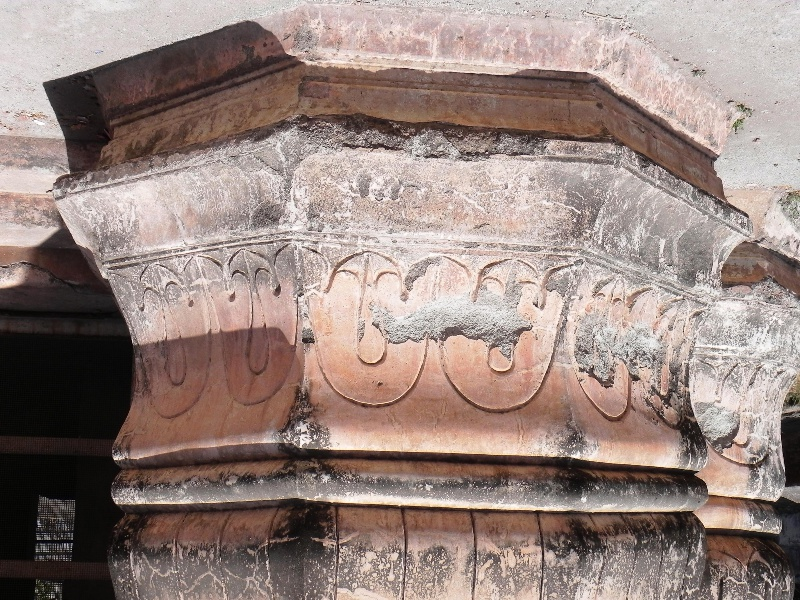Spalling: (309, 102, 555, 165), (372, 288, 536, 355)
